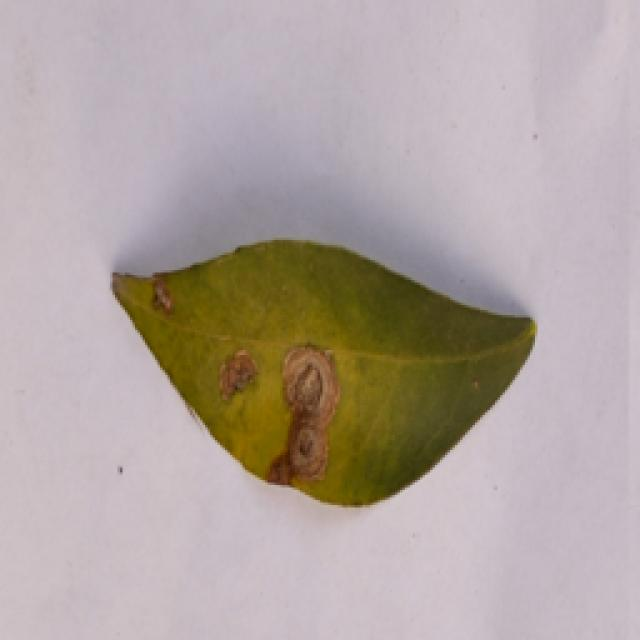canker: (100, 242, 528, 502)
